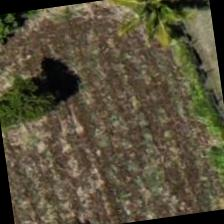Kelapa_Sawit: (101, 0, 200, 65)
